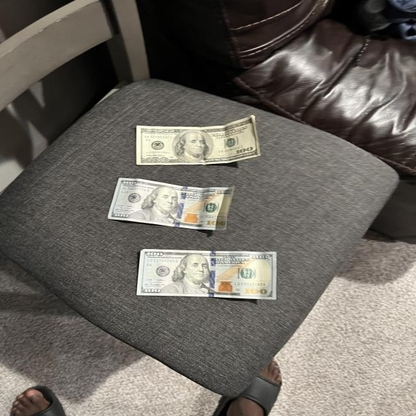one_hundred-front: (132, 247, 281, 298), (103, 176, 236, 232), (134, 112, 263, 169)
